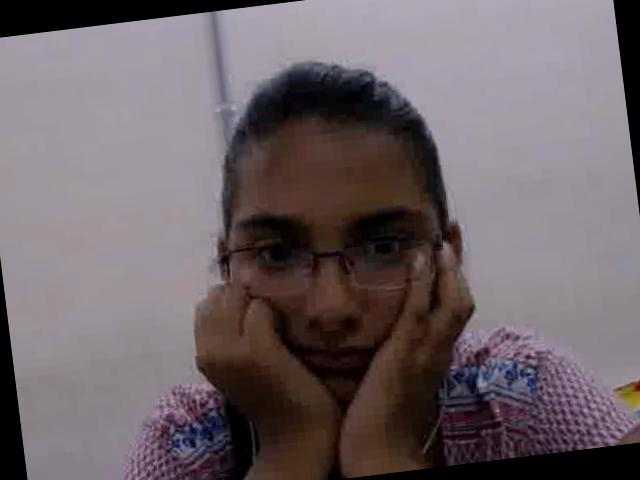bosan: (213, 115, 461, 429)
